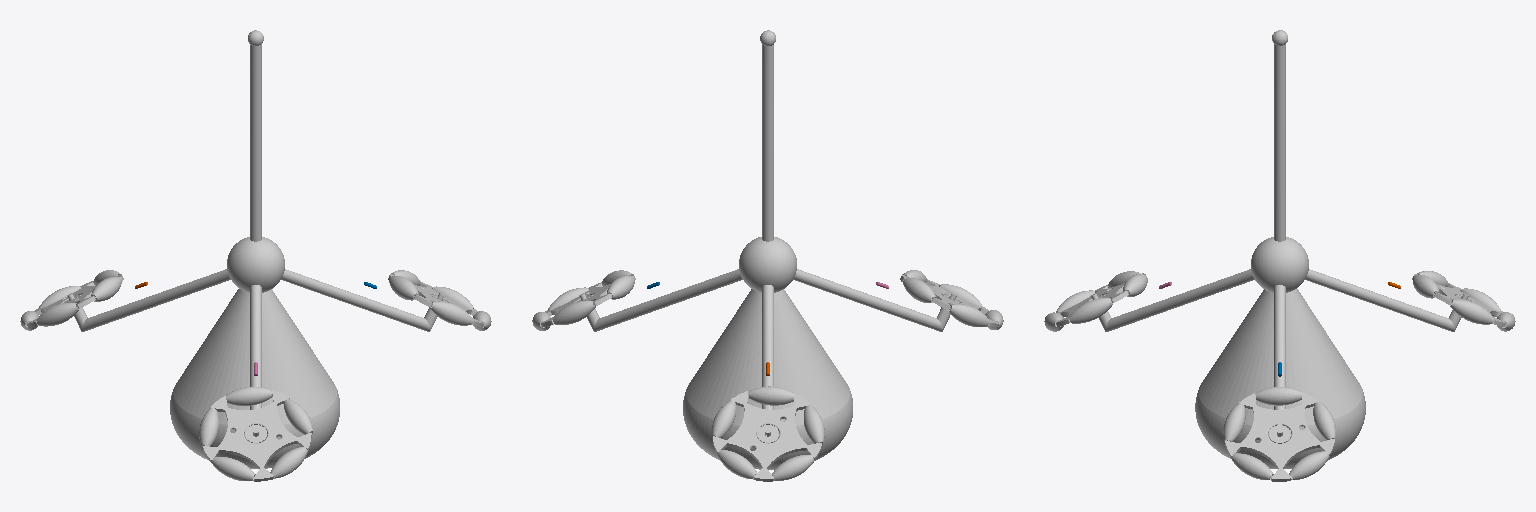
--- Render facts (derived) ---
Views: 3 orthographic renders of the robot side by side, from view 1: azimuth 30°, elevation 25°; view 2: azimuth 150°, elevation 25°; view 3: azimuth 270°, elevation 25°.
Model IDU with 25 links and 24 joints (19 continuous, 3 prismatic, 2 fixed), rooted at tetrahedron_skeleton, posed every joint at zero.
Links seen in each view (by area): view 1: weight, tetrahedron_skeleton, omni_wheel.3, Untitled.014, Untitled.012, Untitled.006, Untitled.016, Untitled.011, omni_wheel.1, omni_wheel.2, Untitled.010, Untitled.013; view 2: weight, tetrahedron_skeleton, omni_wheel.2, Untitled.015, Untitled.017, Untitled.008, Untitled.018, omni_wheel.1, omni_wheel.3, Untitled.013, Untitled.019, Untitled.016 (+1 smaller); view 3: weight, tetrahedron_skeleton, omni_wheel.1, Untitled.010, Untitled.007, Untitled.019, Untitled.005, Untitled.009, omni_wheel.2, omni_wheel.3, Untitled.008, Untitled.006.
Link boxes in pixels (x1,y1,x2,y2): weight: (170, 289, 339, 468); tetrahedron_skeleton: (67, 44, 444, 435); omni_wheel.3: (203, 390, 311, 481); Untitled.014: (226, 387, 271, 405); Untitled.012: (212, 457, 255, 480); Untitled.006: (430, 301, 472, 325); Untitled.016: (37, 303, 78, 326); Untitled.011: (270, 447, 307, 478); omni_wheel.1: (388, 274, 483, 327); omni_wheel.2: (27, 274, 123, 327); Untitled.010: (284, 399, 312, 434); Untitled.013: (199, 408, 218, 447); weight: (683, 289, 852, 469); tetrahedron_skeleton: (579, 44, 956, 435); omni_wheel.2: (713, 391, 821, 481); Untitled.015: (749, 386, 794, 405); Untitled.017: (772, 455, 814, 480); Untitled.008: (553, 300, 595, 324); Untitled.018: (718, 450, 756, 479); omni_wheel.1: (541, 274, 635, 327); omni_wheel.3: (900, 274, 998, 327); Untitled.013: (948, 304, 989, 326); Untitled.019: (712, 401, 735, 437); Untitled.016: (804, 405, 824, 444); weight: (1195, 289, 1365, 468); tetrahedron_skeleton: (1091, 32, 1468, 442); omni_wheel.1: (1225, 392, 1334, 481); Untitled.010: (1069, 298, 1112, 323); Untitled.007: (1256, 387, 1301, 405); Untitled.019: (1450, 300, 1493, 324); Untitled.005: (1232, 453, 1273, 479); Untitled.009: (1289, 451, 1329, 479); omni_wheel.2: (1412, 274, 1505, 326); omni_wheel.3: (1056, 273, 1145, 326); Untitled.008: (1313, 402, 1335, 439); Untitled.006: (1223, 403, 1245, 441).
Bounding box of the posed robot: 3.61 × 4.04 × 3.95 m (x, y, z).
Meshes: 26 distinct files referenced, 26 mesh visuals loaded (26 Collada DAE).

robot.urdf — IDU:
<?xml version="1.0"?>
<!-- created with Phobos 1.0.1 "Capricious Choutengan" -->
  <robot name="IDU">

    <link name="Untitled.005">
      <inertial>
        <origin xyz="0.00109 0.00082 -0.00068" rpy="0 0 0"/>
        <mass value="0.01"/>
        <inertia ixx="0.00039" ixy="0" ixz="0" iyy="0.00039" iyz="0" izz="0.00039"/>
      </inertial>
      <visual name="node32">
        <origin xyz="-0.00111 -0.00082 0.00068" rpy="0.39357 0.46121 0.64005"/>
        <geometry>
          <mesh filename="../meshes/dae/Part__Feature019.dae" scale="10.1 10.1 10.1"/>
        </geometry>
        <material name="Part__Feature019"/>
      </visual>
      <collision name="node32.000">
        <origin xyz="-0.00111 -0.00082 0.00069" rpy="0.39357 0.46121 0.64005"/>
        <geometry>
          <mesh filename="../meshes/dae/Part__Feature019.001.dae" scale="1.01 1.01 1.01"/>
        </geometry>
      </collision>
    </link>

    <link name="Untitled.006">
      <inertial>
        <origin xyz="0 0 0" rpy="0 0 0"/>
        <mass value="0.01"/>
        <inertia ixx="0.00039" ixy="0" ixz="0" iyy="0.00039" iyz="0" izz="0.00039"/>
      </inertial>
      <visual name="node28">
        <origin xyz="0 0 0" rpy="-1.0292 -0.97789 1.10801"/>
        <geometry>
          <mesh filename="../meshes/dae/Part__Feature015.dae" scale="10.1 10.1 10.1"/>
        </geometry>
        <material name="Part__Feature015"/>
      </visual>
      <collision name="node28.000">
        <origin xyz="0 0 0" rpy="-1.0292 -0.97789 1.10801"/>
        <geometry>
          <mesh filename="../meshes/dae/Part__Feature015.001.dae" scale="1.01 1.01 1.01"/>
        </geometry>
      </collision>
    </link>

    <link name="Untitled.007">
      <inertial>
        <origin xyz="0 0 0" rpy="0 0 0"/>
        <mass value="0.01"/>
        <inertia ixx="0.00039" ixy="0" ixz="0" iyy="0.00039" iyz="0" izz="0.00039"/>
      </inertial>
      <visual name="node24">
        <origin xyz="0 0 0" rpy="0 0 0"/>
        <geometry>
          <mesh filename="../meshes/dae/Part__Feature011.dae" scale="10.1 10.1 10.1"/>
        </geometry>
        <material name="Part__Feature011"/>
      </visual>
      <collision name="node24.000">
        <origin xyz="0 0 0" rpy="0 0 0"/>
        <geometry>
          <mesh filename="../meshes/dae/Part__Feature011.001.dae" scale="1.01 1.01 1.01"/>
        </geometry>
      </collision>
    </link>

    <link name="Untitled.008">
      <inertial>
        <origin xyz="0.00057 -0.00065 -0.00126" rpy="0 0 0"/>
        <mass value="0.01"/>
        <inertia ixx="0.00039" ixy="0" ixz="0" iyy="0.00039" iyz="0" izz="0.00039"/>
      </inertial>
      <visual name="node20">
        <origin xyz="-0.00058 0.00065 0.00127" rpy="0.9385 0.96952 -0.84742"/>
        <geometry>
          <mesh filename="../meshes/dae/Part__Feature007.dae" scale="-10.1 -10.1 -10.1"/>
        </geometry>
        <material name="Part__Feature007"/>
      </visual>
      <collision name="node20.000">
        <origin xyz="-0.00058 0.00065 0.00127" rpy="0.95648 0.98392 -1.88254"/>
        <geometry>
          <mesh filename="../meshes/dae/Part__Feature007.001.dae" scale="1.01 1.01 1.01"/>
        </geometry>
      </collision>
    </link>

    <link name="Untitled.009">
      <inertial>
        <origin xyz="0.00128 0.00021 0.0008" rpy="0 0 0"/>
        <mass value="0.01"/>
        <inertia ixx="0.00039" ixy="0" ixz="0" iyy="0.00039" iyz="0" izz="0.00039"/>
      </inertial>
      <visual name="node16">
        <origin xyz="-0.00129 -0.00022 -0.00081" rpy="-0.37071 -0.55373 0.16606"/>
        <geometry>
          <mesh filename="../meshes/dae/Part__Feature003.dae" scale="10.1 10.1 10.1"/>
        </geometry>
        <material name="Part__Feature003"/>
      </visual>
      <collision name="node16.000">
        <origin xyz="-0.00129 -0.00022 -0.00081" rpy="-0.37071 -0.55373 0.16606"/>
        <geometry>
          <mesh filename="../meshes/dae/Part__Feature003.001.dae" scale="1.01 1.01 1.01"/>
        </geometry>
      </collision>
    </link>

    <link name="Untitled.010">
      <inertial>
        <origin xyz="0 0 0" rpy="0 0 0"/>
        <mass value="0.01"/>
        <inertia ixx="0.00039" ixy="0" ixz="0" iyy="0.00039" iyz="0" izz="0.00039"/>
      </inertial>
      <visual name="node52">
        <origin xyz="0 0 0" rpy="-0.50731 -0.05022 -0.25175"/>
        <geometry>
          <mesh filename="../meshes/dae/Part__Feature042.dae" scale="10.1 10.1 10.1"/>
        </geometry>
        <material name="Part__Feature042"/>
      </visual>
      <collision name="node52.000">
        <origin xyz="0 0 0" rpy="-0.50731 -0.05022 -0.25175"/>
        <geometry>
          <mesh filename="../meshes/dae/Part__Feature042.001.dae" scale="1.01 1.01 1.01"/>
        </geometry>
      </collision>
    </link>

    <link name="Untitled.011">
      <inertial>
        <origin xyz="0 0 0" rpy="0 0 0"/>
        <mass value="0.01"/>
        <inertia ixx="0.00039" ixy="0" ixz="0" iyy="0.00039" iyz="0" izz="0.00039"/>
      </inertial>
      <visual name="node48">
        <origin xyz="0 0 0" rpy="-1.14055 1.16913 -0.7232"/>
        <geometry>
          <mesh filename="../meshes/dae/Part__Feature038.dae" scale="10.1 10.1 10.1"/>
        </geometry>
        <material name="Part__Feature038"/>
      </visual>
      <collision name="node48.000">
        <origin xyz="0 0 0" rpy="-1.14055 1.16913 -0.7232"/>
        <geometry>
          <mesh filename="../meshes/dae/Part__Feature038.001.dae" scale="1.01 1.01 1.01"/>
        </geometry>
      </collision>
    </link>

    <link name="Untitled.012">
      <inertial>
        <origin xyz="0 0 0" rpy="0 0 0"/>
        <mass value="0.01"/>
        <inertia ixx="0.00039" ixy="0" ixz="0" iyy="0.00039" iyz="0" izz="0.00039"/>
      </inertial>
      <visual name="node44">
        <origin xyz="0 0 0" rpy="-0.28488 -0.60308 -0.30841"/>
        <geometry>
          <mesh filename="../meshes/dae/Part__Feature034.dae" scale="10.1 10.1 10.1"/>
        </geometry>
        <material name="Part__Feature034"/>
      </visual>
      <collision name="node44.000">
        <origin xyz="0 0 0" rpy="-0.28488 -0.60308 -0.30841"/>
        <geometry>
          <mesh filename="../meshes/dae/Part__Feature034.001.dae" scale="1.01 1.01 1.01"/>
        </geometry>
      </collision>
    </link>

    <link name="Untitled.013">
      <inertial>
        <origin xyz="0 0 0" rpy="0 0 0"/>
        <mass value="0.01"/>
        <inertia ixx="0.00039" ixy="0" ixz="0" iyy="0.00039" iyz="0" izz="0.00039"/>
      </inertial>
      <visual name="node40">
        <origin xyz="0 0 0" rpy="-0.63576 0.60564 -0.31313"/>
        <geometry>
          <mesh filename="../meshes/dae/Part__Feature030.dae" scale="10.1 10.1 10.1"/>
        </geometry>
        <material name="Part__Feature030"/>
      </visual>
      <collision name="node40.000">
        <origin xyz="0 0 0" rpy="-0.63576 0.60564 -0.31313"/>
        <geometry>
          <mesh filename="../meshes/dae/Part__Feature030.001.dae" scale="1.01 1.01 1.01"/>
        </geometry>
      </collision>
    </link>

    <link name="Untitled.014">
      <inertial>
        <origin xyz="0 0 0" rpy="0 0 0"/>
        <mass value="0.01"/>
        <inertia ixx="0.00039" ixy="0" ixz="0" iyy="0.00039" iyz="0" izz="0.00039"/>
      </inertial>
      <visual name="node36">
        <origin xyz="0 0 0" rpy="0.22642 1.97013 -0.80087"/>
        <geometry>
          <mesh filename="../meshes/dae/Part__Feature026.dae" scale="10.1 10.1 10.1"/>
        </geometry>
        <material name="Part__Feature026"/>
      </visual>
      <collision name="node36.000">
        <origin xyz="0 0 0" rpy="0.22642 1.97013 -0.80087"/>
        <geometry>
          <mesh filename="../meshes/dae/Part__Feature026.001.dae" scale="1.01 1.01 1.01"/>
        </geometry>
      </collision>
    </link>

    <link name="Untitled.015">
      <inertial>
        <origin xyz="0 0 0" rpy="0 0 0"/>
        <mass value="0.01"/>
        <inertia ixx="0.00039" ixy="0" ixz="0" iyy="0.00039" iyz="0" izz="0.00039"/>
      </inertial>
      <visual name="node72">
        <origin xyz="0 0 0" rpy="-0.0823 1.10989 -0.08524"/>
        <geometry>
          <mesh filename="../meshes/dae/Part__Feature065.dae" scale="10.1 10.1 10.1"/>
        </geometry>
        <material name="Part__Feature065"/>
      </visual>
      <collision name="node72.000">
        <origin xyz="0 0 0" rpy="-0.0823 1.10989 -0.08524"/>
        <geometry>
          <mesh filename="../meshes/dae/Part__Feature065.001.dae" scale="1.01 1.01 1.01"/>
        </geometry>
      </collision>
    </link>

    <link name="Untitled.016">
      <inertial>
        <origin xyz="0 0 0" rpy="0 0 0"/>
        <mass value="0.01"/>
        <inertia ixx="0.00039" ixy="0" ixz="0" iyy="0.00039" iyz="0" izz="0.00039"/>
      </inertial>
      <visual name="node68">
        <origin xyz="0 0 0" rpy="0.6728 2.46284 0.14167"/>
        <geometry>
          <mesh filename="../meshes/dae/Part__Feature061.dae" scale="10.1 10.1 10.1"/>
        </geometry>
        <material name="Part__Feature061"/>
      </visual>
      <collision name="node68.000">
        <origin xyz="0 0 0" rpy="0.6728 2.46284 0.14167"/>
        <geometry>
          <mesh filename="../meshes/dae/Part__Feature061.001.dae" scale="1.01 1.01 1.01"/>
        </geometry>
      </collision>
    </link>

    <link name="Untitled.017">
      <inertial>
        <origin xyz="0 0 0" rpy="0 0 0"/>
        <mass value="0.01"/>
        <inertia ixx="0.00039" ixy="0" ixz="0" iyy="0.00039" iyz="0" izz="0.00039"/>
      </inertial>
      <visual name="node64">
        <origin xyz="0 0 0" rpy="0.31266 0.53675 0.17997"/>
        <geometry>
          <mesh filename="../meshes/dae/Part__Feature057.dae" scale="-10.1 -10.1 -10.1"/>
        </geometry>
        <material name="Part__Feature057"/>
      </visual>
      <collision name="node64.000">
        <origin xyz="0 0 0" rpy="0.31588 0.53291 0.10854"/>
        <geometry>
          <mesh filename="../meshes/dae/Part__Feature057.001.dae" scale="-1.01 -1.01 -1.01"/>
        </geometry>
      </collision>
    </link>

    <link name="Untitled.018">
      <inertial>
        <origin xyz="0 0 0" rpy="0 0 0"/>
        <mass value="0.01"/>
        <inertia ixx="0.00039" ixy="0" ixz="0" iyy="0.00039" iyz="0" izz="0.00039"/>
      </inertial>
      <visual name="node60">
        <origin xyz="0 0 0" rpy="1.27479 -1.22626 1.03316"/>
        <geometry>
          <mesh filename="../meshes/dae/Part__Feature053.dae" scale="10.1 10.1 10.1"/>
        </geometry>
        <material name="Part__Feature053"/>
      </visual>
      <collision name="node60.000">
        <origin xyz="0 0 0" rpy="1.27479 -1.22626 1.03316"/>
        <geometry>
          <mesh filename="../meshes/dae/Part__Feature053.001.dae" scale="1.01 1.01 1.01"/>
        </geometry>
      </collision>
    </link>

    <link name="Untitled.019">
      <inertial>
        <origin xyz="0 0 0" rpy="0 0 0"/>
        <mass value="0.01"/>
        <inertia ixx="0.00039" ixy="0" ixz="0" iyy="0.00039" iyz="0" izz="0.00039"/>
      </inertial>
      <visual name="node56">
        <origin xyz="0 0 0" rpy="0.48855 3.07688 -0.00227"/>
        <geometry>
          <mesh filename="../meshes/dae/Part__Feature049.dae" scale="10.1 10.1 10.1"/>
        </geometry>
        <material name="Part__Feature049"/>
      </visual>
      <collision name="node56.000">
        <origin xyz="0 0 0" rpy="0.48855 3.07688 -0.00227"/>
        <geometry>
          <mesh filename="../meshes/dae/Part__Feature049.001.dae" scale="1.01 1.01 1.01"/>
        </geometry>
      </collision>
    </link>

    <link name="caster_wheel">
      <inertial>
        <origin xyz="-6e-05 2e-05 -0.09995" rpy="0 0 0"/>
        <mass value="0.01"/>
        <inertia ixx="0.00098" ixy="0" ixz="0" iyy="0.00098" iyz="0" izz="0.00098"/>
      </inertial>
      <visual name="node15">
        <origin xyz="-3e-05 1e-05 -0.04998" rpy="1.5708 0 0"/>
        <geometry>
          <sphere radius="0.06998"/>
        </geometry>
        <material name="Part__Feature071"/>
      </visual>
      <collision name="node15">
        <origin xyz="0 0 -0.05" rpy="1.5708 0 0"/>
        <geometry>
          <sphere radius="0.06999"/>
        </geometry>
      </collision>
    </link>

    <link name="lower_hemisphere">
      <inertial>
        <origin xyz="0 0 0.245" rpy="0 0 0"/>
        <mass value="0.2"/>
        <inertia ixx="0.16328" ixy="0.00117" ixz="0" iyy="0.16328" iyz="0" izz="0.19766"/>
      </inertial>
    </link>

    <link name="omni_wheel.1">
      <inertial>
        <origin xyz="-0.01024 0.02911 -0.01562" rpy="0 0 0"/>
        <mass value="0.05"/>
        <inertia ixx="0.00093" ixy="-8e-05" ixz="-0.00029" iyy="0.00083" iyz="0.00017" izz="0.00137"/>
      </inertial>
      <visual name="node4">
        <origin xyz="0 0 0" rpy="1.5708 -0.5236 0"/>
        <geometry>
          <mesh filename="../meshes/dae/Part__Feature023.dae" scale="10.0 10.0 10.0"/>
        </geometry>
        <material name="Part__Feature023"/>
      </visual>
      <visual name="node8">
        <origin xyz="-0.01032 0.02908 -0.02642" rpy="1.5708 -0.5236 0"/>
        <geometry>
          <mesh filename="../meshes/dae/Part__Feature001.dae" scale="10.0 10.0 10.0"/>
        </geometry>
        <material name="Part__Feature001"/>
      </visual>
      <visual name="node9">
        <origin xyz="-0.01015 0.02914 -0.00483" rpy="1.5708 -0.5236 0"/>
        <geometry>
          <mesh filename="../meshes/dae/Part__Feature002.dae" scale="10.0 10.0 10.0"/>
        </geometry>
        <material name="Part__Feature002"/>
      </visual>
      <collision name="node4">
        <origin xyz="0 0 -0.00062" rpy="3.14159 0 0"/>
        <geometry>
          <cylinder radius="0.09749" length="0.01376"/>
        </geometry>
      </collision>
      <collision name="node8.000">
        <origin xyz="-0.01015 0.02914 -0.00483" rpy="1.5708 -0.5236 0"/>
        <geometry>
          <mesh filename="../meshes/dae/Part__Feature001.001.dae" scale="1.0 1.0 1.0"/>
        </geometry>
      </collision>
      <collision name="node9.000">
        <origin xyz="-0.01015 0.02914 -0.00483" rpy="1.5708 -0.5236 0"/>
        <geometry>
          <mesh filename="../meshes/dae/Part__Feature002.001.dae" scale="1.0 1.0 1.0"/>
        </geometry>
      </collision>
    </link>

    <link name="omni_wheel.2">
      <inertial>
        <origin xyz="0.01992 0.02357 -0.01563" rpy="0 0 0"/>
        <mass value="0.05"/>
        <inertia ixx="0.00096" ixy="0.0003" ixz="0.00013" iyy="0.00129" iyz="0.00021" izz="0.00087"/>
      </inertial>
      <visual name="node12">
        <origin xyz="0.01985 0.02363 -0.02642" rpy="2.03444 0.25268 -0.46365"/>
        <geometry>
          <mesh filename="../meshes/dae/Part__Feature047.dae" scale="10.0 10.0 10.0"/>
        </geometry>
        <material name="Part__Feature047"/>
      </visual>
      <visual name="node13">
        <origin xyz="0.01998 0.02352 -0.00483" rpy="2.03444 0.25268 -0.46365"/>
        <geometry>
          <mesh filename="../meshes/dae/Part__Feature048.dae" scale="10.0 10.0 10.0"/>
        </geometry>
        <material name="Part__Feature048"/>
      </visual>
      <visual name="node6">
        <origin xyz="0 0 0" rpy="2.03444 0.25268 -0.46365"/>
        <geometry>
          <mesh filename="../meshes/dae/Part__Feature069.dae" scale="10.0 10.0 10.0"/>
        </geometry>
        <material name="Part__Feature069"/>
      </visual>
      <collision name="node12.000">
        <origin xyz="0.01998 0.02352 -0.00483" rpy="2.03444 0.25268 -0.46365"/>
        <geometry>
          <mesh filename="../meshes/dae/Part__Feature047.001.dae" scale="1.0 1.0 1.0"/>
        </geometry>
      </collision>
      <collision name="node13.000">
        <origin xyz="0.01985 0.02363 -0.02642" rpy="2.03444 0.25268 -0.46365"/>
        <geometry>
          <mesh filename="../meshes/dae/Part__Feature048.001.dae" scale="1.0 1.0 1.0"/>
        </geometry>
      </collision>
      <collision name="node6">
        <origin xyz="0 0 -0.00062" rpy="3.14159 0 0"/>
        <geometry>
          <cylinder radius="0.09565" length="0.01605"/>
        </geometry>
      </collision>
    </link>

    <link name="omni_wheel.3">
      <inertial>
        <origin xyz="-0.03043 0.00515 -0.01562" rpy="0 0 0"/>
        <mass value="0.05"/>
        <inertia ixx="0.00078" ixy="3e-05" ixz="-2e-05" iyy="0.00129" iyz="-0.00037" izz="0.00105"/>
      </inertial>
      <visual name="node10">
        <origin xyz="-0.03044 0.00506 -0.02642" rpy="1.10715 0.25268 0.46365"/>
        <geometry>
          <mesh filename="../meshes/dae/Part__Feature024.dae" scale="10.0 10.0 10.0"/>
        </geometry>
        <material name="Part__Feature024"/>
      </visual>
      <visual name="node11">
        <origin xyz="-0.03041 0.00524 -0.00483" rpy="1.10715 0.25268 0.46365"/>
        <geometry>
          <mesh filename="../meshes/dae/Part__Feature025.dae" scale="10.0 10.0 10.0"/>
        </geometry>
        <material name="Part__Feature025"/>
      </visual>
      <visual name="node5">
        <origin xyz="0 0 0" rpy="1.10715 0.25268 0.46365"/>
        <geometry>
          <mesh filename="../meshes/dae/Part__Feature046.dae" scale="10.0 10.0 10.0"/>
        </geometry>
        <material name="Part__Feature046"/>
      </visual>
      <collision name="node10.000">
        <origin xyz="-0.03041 0.00524 -0.00483" rpy="1.10715 0.25268 0.46365"/>
        <geometry>
          <mesh filename="../meshes/dae/Part__Feature024.001.dae" scale="1.0 1.0 1.0"/>
        </geometry>
      </collision>
      <collision name="node11.000">
        <origin xyz="-0.03044 0.00506 -0.02642" rpy="1.10715 0.25268 0.46365"/>
        <geometry>
          <mesh filename="../meshes/dae/Part__Feature025.001.dae" scale="1.0 1.0 1.0"/>
        </geometry>
      </collision>
      <collision name="node5">
        <origin xyz="0 0 -0.00063" rpy="0 0 0"/>
        <geometry>
          <cylinder radius="0.09565" length="0.0081"/>
        </geometry>
      </collision>
    </link>

    <link name="prismatic_1">
      <inertial>
        <origin xyz="0 0 0" rpy="0 0 0"/>
        <mass value="0.001"/>
        <inertia ixx="0.001" ixy="0" ixz="0" iyy="0.001" iyz="0" izz="0.001"/>
      </inertial>
      <visual name="Cylinder.001">
        <origin xyz="0 0 0" rpy="0 0 0"/>
        <geometry>
          <cylinder radius="0.01607" length="0.12703"/>
        </geometry>
      </visual>
    </link>

    <link name="prismatic_2">
      <inertial>
        <origin xyz="0 0 0" rpy="0 0 0"/>
        <mass value="0.001"/>
        <inertia ixx="0.001" ixy="0" ixz="0" iyy="0.001" iyz="0" izz="0.001"/>
      </inertial>
      <visual name="Cylinder.002">
        <origin xyz="0 0 0" rpy="0 0 0"/>
        <geometry>
          <cylinder radius="0.01607" length="0.12703"/>
        </geometry>
      </visual>
    </link>

    <link name="prismatic_3">
      <inertial>
        <origin xyz="0 0 0" rpy="0 0 0"/>
        <mass value="0.001"/>
        <inertia ixx="0.001" ixy="0" ixz="0" iyy="0.001" iyz="0" izz="0.001"/>
      </inertial>
      <visual name="Cylinder">
        <origin xyz="0 0 0" rpy="0 0 0"/>
        <geometry>
          <cylinder radius="0.01607" length="0.12703"/>
        </geometry>
      </visual>
    </link>

    <link name="tetrahedron_skeleton">
      <inertial>
        <origin xyz="0 0 -0.07263" rpy="0 0 0"/>
        <mass value="0.95"/>
        <inertia ixx="3.72969" ixy="-0.00078" ixz="0" iyy="3.72969" iyz="0" izz="3.96133"/>
      </inertial>
      <visual name="node0">
        <origin xyz="0.00113 -0.0016 -0.76747" rpy="1.5708 0 0"/>
        <geometry>
          <mesh filename="../meshes/dae/Part__Feature.dae" scale="10.0 9.9 10.0"/>
        </geometry>
        <material name="Part__Feature"/>
      </visual>
      <collision name="node0.000">
        <origin xyz="0.00113 -0.0016 -0.76747" rpy="1.5708 0 0"/>
        <geometry>
          <mesh filename="../meshes/dae/Part__Feature.001.dae" scale="1.0 0.99 1.0"/>
        </geometry>
      </collision>
    </link>

    <link name="weight">
      <inertial>
        <origin xyz="0.08955 0.10581 0.15202" rpy="0 0 0"/>
        <mass value="10.0"/>
        <inertia ixx="18.50312" ixy="-0.18596" ixz="0.09062" iyy="18.39548" iyz="-0.66457" izz="15.0014"/>
      </inertial>
      <visual name="node1">
        <origin xyz="0.0909 0.10726 -0.00689" rpy="1.63969 -0.06699 0.00783"/>
        <geometry>
          <mesh filename="../meshes/dae/Part__Feature073.dae" scale="10.0 10.0 10.0"/>
        </geometry>
        <material name="Part__Feature073"/>
      </visual>
      <collision name="node1">
        <origin xyz="0.0909 0.0941 0.15793" rpy="0 0 0"/>
        <geometry>
          <cylinder radius="0.39698" length="0.98483"/>
        </geometry>
      </collision>
    </link>

    <joint name="Untitled.005" type="continuous">
      <origin xyz="0.33339 -0.23286 -0.01562" rpy="-1.64576 0 2.54879"/>
      <parent link="omni_wheel.1"/>
      <child link="Untitled.005"/>
      <axis xyz="0 0 1.0"/>
      <limit effort="100.0" velocity="100.0"/>
    </joint>

    <joint name="Untitled.006" type="continuous">
      <origin xyz="-0.11843 -0.38902 -0.01563" rpy="1.5708 0 1.2786"/>
      <parent link="omni_wheel.1"/>
      <child link="Untitled.006"/>
      <axis xyz="0 0 1.0"/>
      <limit effort="100.0" velocity="100.0"/>
    </joint>

    <joint name="Untitled.007" type="continuous">
      <origin xyz="-0.40656 -0.00757 -0.01562" rpy="1.5708 -0.5236 0"/>
      <parent link="omni_wheel.1"/>
      <child link="Untitled.007"/>
      <axis xyz="0 0 1.0"/>
      <limit effort="100.0" velocity="100.0"/>
    </joint>

    <joint name="Untitled.008" type="continuous">
      <origin xyz="-0.13698 0.38288 -0.01563" rpy="-1.58821 -0.18596 -1.23308"/>
      <parent link="omni_wheel.1"/>
      <child link="Untitled.008"/>
      <axis xyz="0 0 1.0"/>
      <limit effort="100.0" velocity="100.0"/>
    </joint>

    <joint name="Untitled.009" type="continuous">
      <origin xyz="0.32182 0.2486 -0.01562" rpy="-1.5664 0.46533 -2.48815"/>
      <parent link="omni_wheel.1"/>
      <child link="Untitled.009"/>
      <axis xyz="0 0 1.0"/>
      <limit effort="100.0" velocity="100.0"/>
    </joint>

    <joint name="Untitled.010" type="continuous">
      <origin xyz="0.36522 0.17884 -0.01562" rpy="-1.516 0.0012 -2.64024"/>
      <parent link="omni_wheel.3"/>
      <child link="Untitled.010"/>
      <axis xyz="0 0 1.0"/>
      <limit effort="100.0" velocity="100.0"/>
    </joint>

    <joint name="Untitled.011" type="continuous">
      <origin xyz="0.28294 -0.29207 -0.01562" rpy="-1.56379 0.00772 2.34408"/>
      <parent link="omni_wheel.3"/>
      <child link="Untitled.011"/>
      <axis xyz="0 0 1.0"/>
      <limit effort="100.0" velocity="100.0"/>
    </joint>

    <joint name="Untitled.012" type="continuous">
      <origin xyz="-0.19034 -0.35933 -0.01562" rpy="1.5708 0 1.08949"/>
      <parent link="omni_wheel.3"/>
      <child link="Untitled.012"/>
      <axis xyz="0 0 1.0"/>
      <limit effort="100.0" velocity="100.0"/>
    </joint>

    <joint name="Untitled.013" type="continuous">
      <origin xyz="-0.40131 0.06566 -0.01563" rpy="1.56481 -0.0085 -0.16294"/>
      <parent link="omni_wheel.3"/>
      <child link="Untitled.013"/>
      <axis xyz="0 0 1.0"/>
      <limit effort="100.0" velocity="100.0"/>
    </joint>

    <joint name="Untitled.014" type="continuous">
      <origin xyz="-0.06156 0.40197 -0.01563" rpy="-1.35384 -1.61409 1.51314"/>
      <parent link="omni_wheel.3"/>
      <child link="Untitled.014"/>
      <axis xyz="0 0 1.0"/>
      <limit effort="100.0" velocity="100.0"/>
    </joint>

    <joint name="Untitled.015" type="continuous">
      <origin xyz="-0.03191 -0.40541 -0.01562" rpy="-1.57116 -0.51092 1.49688"/>
      <parent link="omni_wheel.2"/>
      <child link="Untitled.015"/>
      <axis xyz="0 0 1.0"/>
      <limit effort="100.0" velocity="100.0"/>
    </joint>

    <joint name="Untitled.016" type="continuous">
      <origin xyz="-0.39541 -0.09494 -0.01563" rpy="-1.57128 0.18491 0.24177"/>
      <parent link="omni_wheel.2"/>
      <child link="Untitled.016"/>
      <axis xyz="0 0 1.0"/>
      <limit effort="100.0" velocity="100.0"/>
    </joint>

    <joint name="Untitled.017" type="continuous">
      <origin xyz="-0.21247 0.34671 -0.01562" rpy="1.60981 -0.17641 2.07881"/>
      <parent link="omni_wheel.2"/>
      <child link="Untitled.017"/>
      <axis xyz="0 0 1.0"/>
      <limit effort="100.0" velocity="100.0"/>
    </joint>

    <joint name="Untitled.018" type="continuous">
      <origin xyz="0.26074 0.31204 -0.01562" rpy="1.57689 -1.26754 0.8782"/>
      <parent link="omni_wheel.2"/>
      <child link="Untitled.018"/>
      <axis xyz="0 0 1.0"/>
      <limit effort="100.0" velocity="100.0"/>
    </joint>

    <joint name="Untitled.019" type="continuous">
      <origin xyz="0.37736 -0.15156 -0.01562" rpy="1.57895 -0.25602 2.74476"/>
      <parent link="omni_wheel.2"/>
      <child link="Untitled.019"/>
      <axis xyz="0 0 1.0"/>
      <limit effort="100.0" velocity="100.0"/>
    </joint>

    <joint name="caster_wheel" type="fixed">
      <origin xyz="0 0 2.17524" rpy="0 0 0"/>
      <parent link="tetrahedron_skeleton"/>
      <child link="caster_wheel"/>
    </joint>

    <joint name="lower_hemisphere" type="continuous">
      <origin xyz="0 0 -0.04473" rpy="-3.14159 0 0"/>
      <parent link="tetrahedron_skeleton"/>
      <child link="lower_hemisphere"/>
      <axis xyz="0 0 1.0"/>
      <limit effort="100.0" velocity="6.28"/>
    </joint>

    <joint name="omni_wheel.1" type="continuous">
      <origin xyz="-0.09331 -0.0006 0.74077" rpy="0 -1.5708 0"/>
      <parent link="prismatic_1"/>
      <child link="omni_wheel.1"/>
      <axis xyz="0 0 1.0"/>
      <limit effort="100.0" velocity="6.28"/>
    </joint>

    <joint name="omni_wheel.2" type="continuous">
      <origin xyz="7e-05 -0.09274 0.73977" rpy="1.5708 0 0"/>
      <parent link="prismatic_2"/>
      <child link="omni_wheel.2"/>
      <axis xyz="0 0 1.0"/>
      <limit effort="100.0" velocity="6.28"/>
    </joint>

    <joint name="omni_wheel.3" type="continuous">
      <origin xyz="0.00067 0.09325 0.74066" rpy="-1.5708 0 0"/>
      <parent link="prismatic_3"/>
      <child link="omni_wheel.3"/>
      <axis xyz="0 0 1.0"/>
      <limit effort="100.0" velocity="6.28"/>
    </joint>

    <joint name="prismatic_1" type="prismatic">
      <origin xyz="1.13574 -0.00101 -0.4779" rpy="0 2.0944 0"/>
      <parent link="tetrahedron_skeleton"/>
      <child link="prismatic_1"/>
      <axis xyz="0 0 1.0"/>
      <limit lower="-0.5" upper="0.5" effort="100.0" velocity="6.28"/>
    </joint>

    <joint name="prismatic_2" type="prismatic">
      <origin xyz="-0.56682 0.98197 -0.4779" rpy="-2.0944 0 0.5236"/>
      <parent link="tetrahedron_skeleton"/>
      <child link="prismatic_2"/>
      <axis xyz="0 0 1.0"/>
      <limit lower="-0.5" upper="0.5" effort="100.0" velocity="6.28"/>
    </joint>

    <joint name="prismatic_3" type="prismatic">
      <origin xyz="-0.56682 -0.98398 -0.4779" rpy="2.0944 0 -0.5236"/>
      <parent link="tetrahedron_skeleton"/>
      <child link="prismatic_3"/>
      <axis xyz="0 0 1.0"/>
      <limit lower="-0.5" upper="0.5" effort="100.0" velocity="6.28"/>
    </joint>

    <joint name="weight" type="fixed">
      <origin xyz="-0.09396 -0.10354 -1.40806" rpy="0 0 0"/>
      <parent link="tetrahedron_skeleton"/>
      <child link="weight"/>
    </joint>

    <material name="Part__Feature">
      <color rgba="0.8 0.8 0.8 1.0"/>
    </material>

    <material name="Part__Feature001">
      <color rgba="0.8 0.8 0.8 1.0"/>
    </material>

    <material name="Part__Feature002">
      <color rgba="0.8 0.8 0.8 1.0"/>
    </material>

    <material name="Part__Feature003">
      <color rgba="0.8 0.8 0.8 1.0"/>
    </material>

    <material name="Part__Feature007">
      <color rgba="0.8 0.8 0.8 1.0"/>
    </material>

    <material name="Part__Feature011">
      <color rgba="0.8 0.8 0.8 1.0"/>
    </material>

    <material name="Part__Feature015">
      <color rgba="0.8 0.8 0.8 1.0"/>
    </material>

    <material name="Part__Feature019">
      <color rgba="0.8 0.8 0.8 1.0"/>
    </material>

    <material name="Part__Feature023">
      <color rgba="0.8 0.8 0.8 1.0"/>
    </material>

    <material name="Part__Feature024">
      <color rgba="0.8 0.8 0.8 1.0"/>
    </material>

    <material name="Part__Feature025">
      <color rgba="0.8 0.8 0.8 1.0"/>
    </material>

    <material name="Part__Feature026">
      <color rgba="0.8 0.8 0.8 1.0"/>
    </material>

    <material name="Part__Feature030">
      <color rgba="0.8 0.8 0.8 1.0"/>
    </material>

    <material name="Part__Feature034">
      <color rgba="0.8 0.8 0.8 1.0"/>
    </material>

    <material name="Part__Feature038">
      <color rgba="0.8 0.8 0.8 1.0"/>
    </material>

    <material name="Part__Feature042">
      <color rgba="0.8 0.8 0.8 1.0"/>
    </material>

    <material name="Part__Feature046">
      <color rgba="0.8 0.8 0.8 1.0"/>
    </material>

    <material name="Part__Feature047">
      <color rgba="0.8 0.8 0.8 1.0"/>
    </material>

    <material name="Part__Feature048">
      <color rgba="0.8 0.8 0.8 1.0"/>
    </material>

    <material name="Part__Feature049">
      <color rgba="0.8 0.8 0.8 1.0"/>
    </material>

    <material name="Part__Feature053">
      <color rgba="0.8 0.8 0.8 1.0"/>
    </material>

    <material name="Part__Feature057">
      <color rgba="0.8 0.8 0.8 1.0"/>
    </material>

    <material name="Part__Feature061">
      <color rgba="0.8 0.8 0.8 1.0"/>
    </material>

    <material name="Part__Feature065">
      <color rgba="0.8 0.8 0.8 1.0"/>
    </material>

    <material name="Part__Feature069">
      <color rgba="0.8 0.8 0.8 1.0"/>
    </material>

    <material name="Part__Feature071">
      <color rgba="0.8 0.8 0.8 1.0"/>
    </material>

    <material name="Part__Feature073">
      <color rgba="0.8 0.8 0.8 1.0"/>
    </material>

  </robot>
